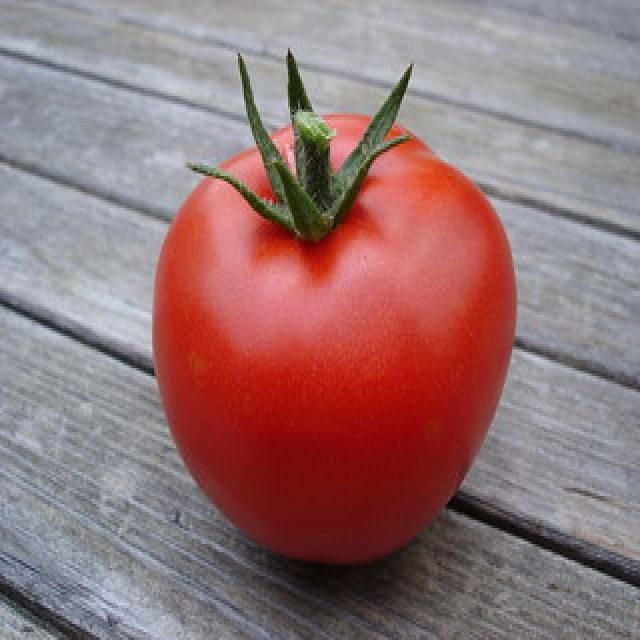Tomato: (148, 43, 530, 567)
